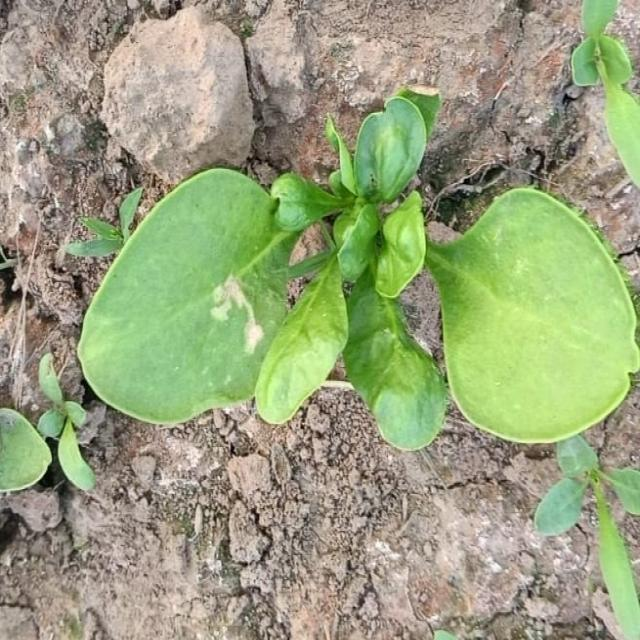plant: (68, 88, 640, 638), (0, 354, 95, 491), (572, 0, 640, 184)
